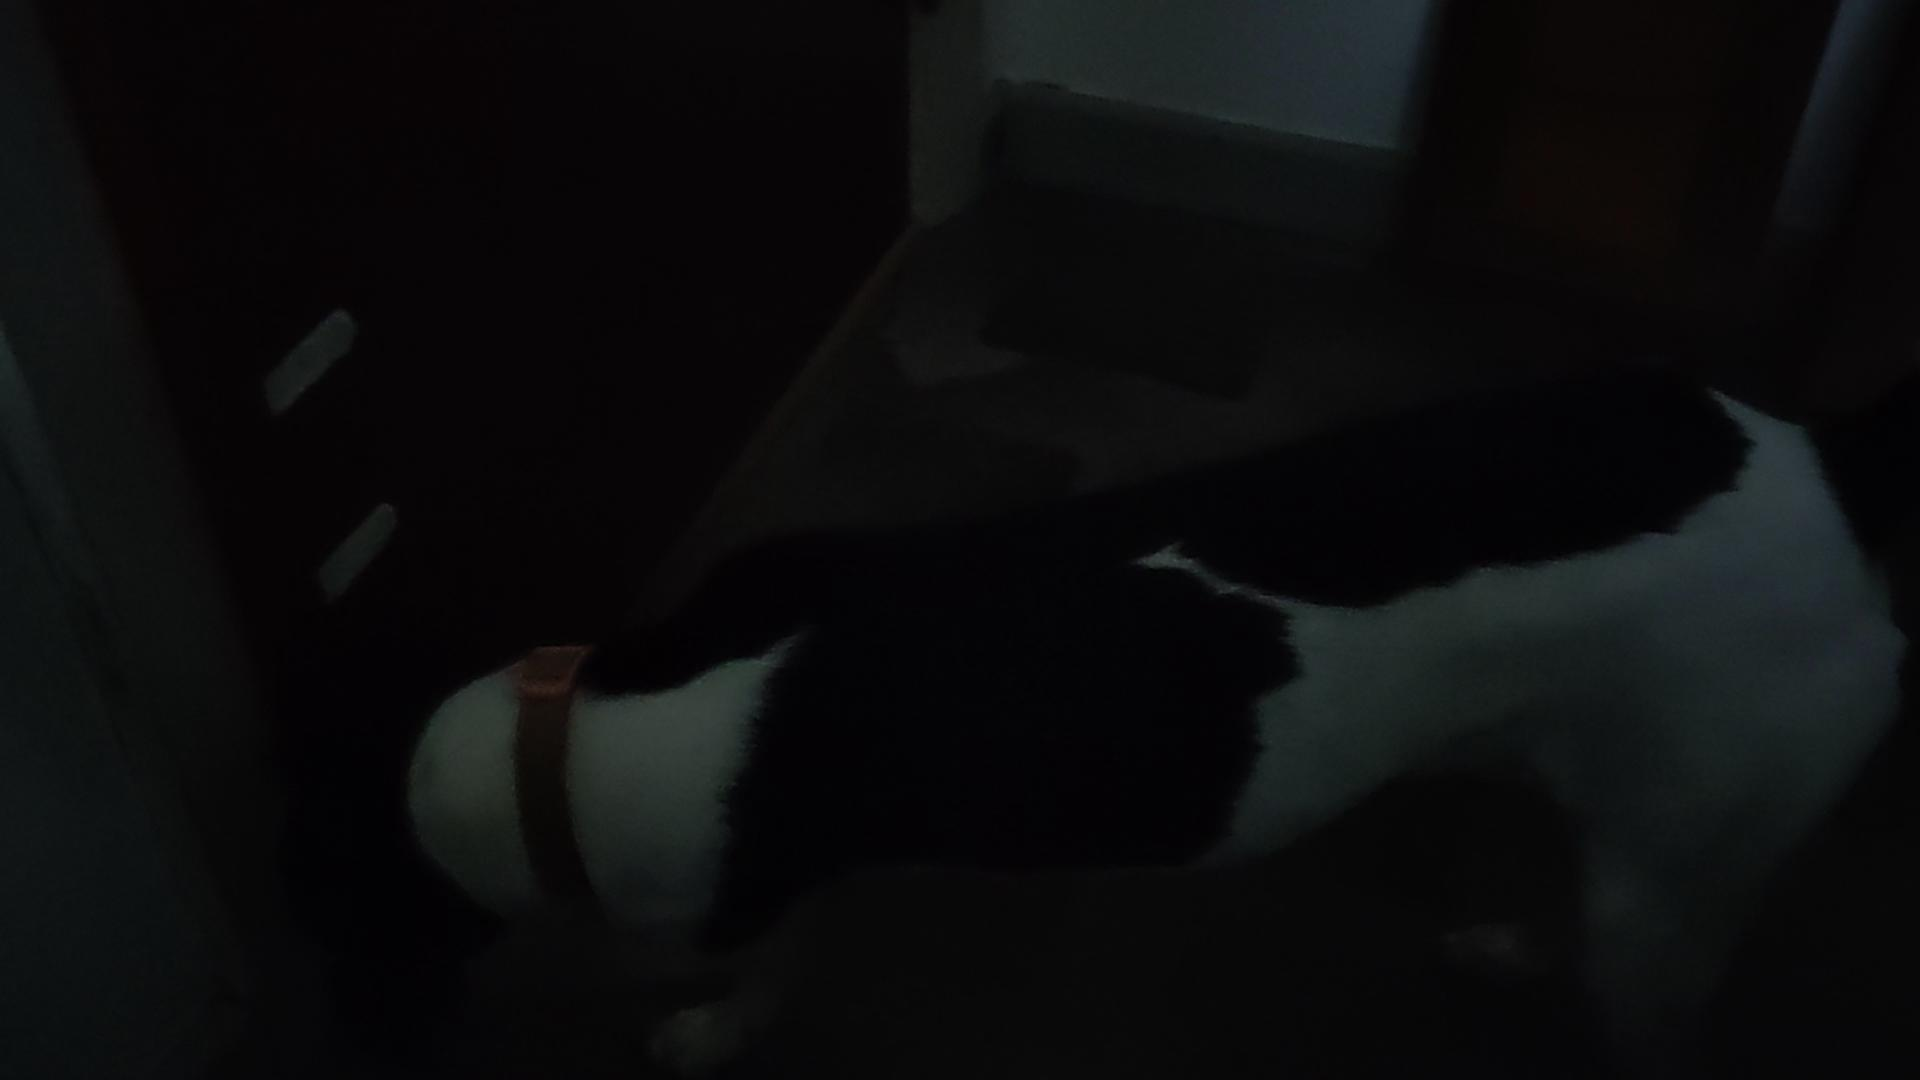Dog: (239, 320, 1919, 1079)
